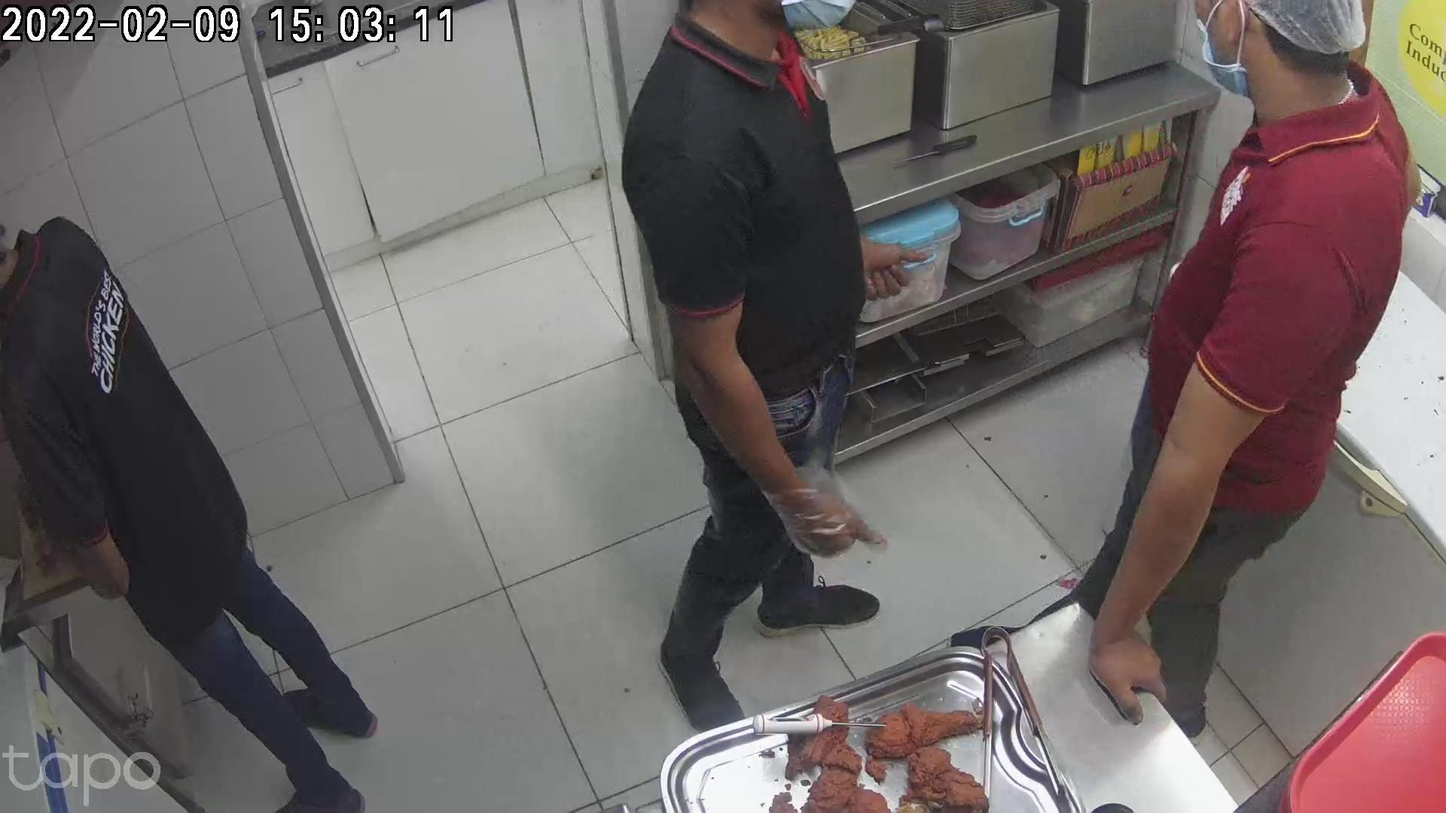gloves: (347, 349, 414, 453)
